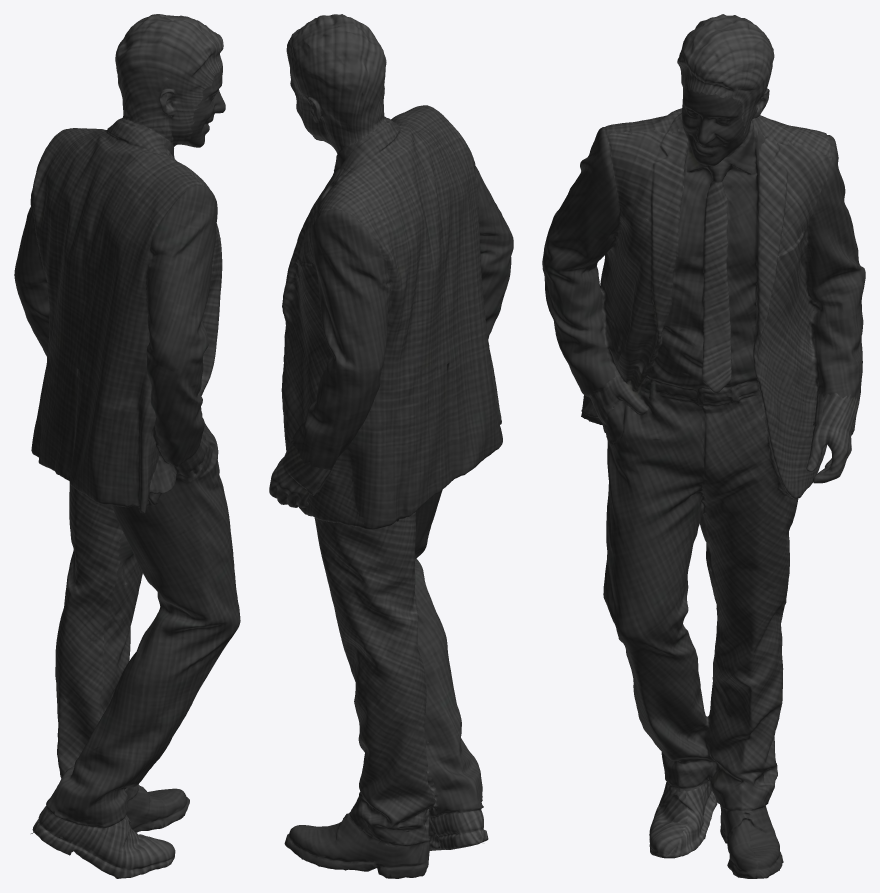
File: Richard.obj
3 views of the same model, side by side, from view 1: azimuth 30°, elevation 25°; view 2: azimuth 150°, elevation 25°; view 3: azimuth 270°, elevation 25° (orthographic). The views are drawn at different scales.
Parts seen in each view (by area): view 1: rp_dennis_posed_004_100k; view 2: rp_dennis_posed_004_100k; view 3: rp_dennis_posed_004_100k.
Boxes of the visible parts, <box> form: rp_dennis_posed_004_100k: <box>14,14,240,878</box>; rp_dennis_posed_004_100k: <box>269,14,513,878</box>; rp_dennis_posed_004_100k: <box>542,14,865,878</box>.
Bounding box in the file's own units: 45.89 × 187 × 64.18.
